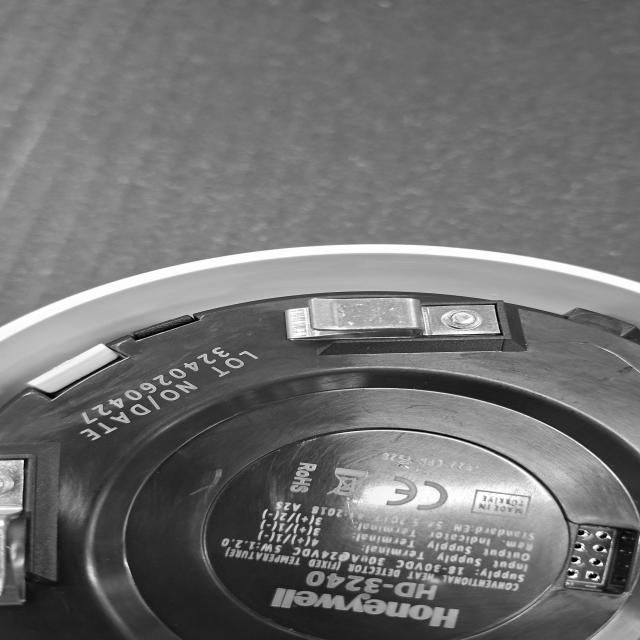yayli: (262, 284, 524, 350)
